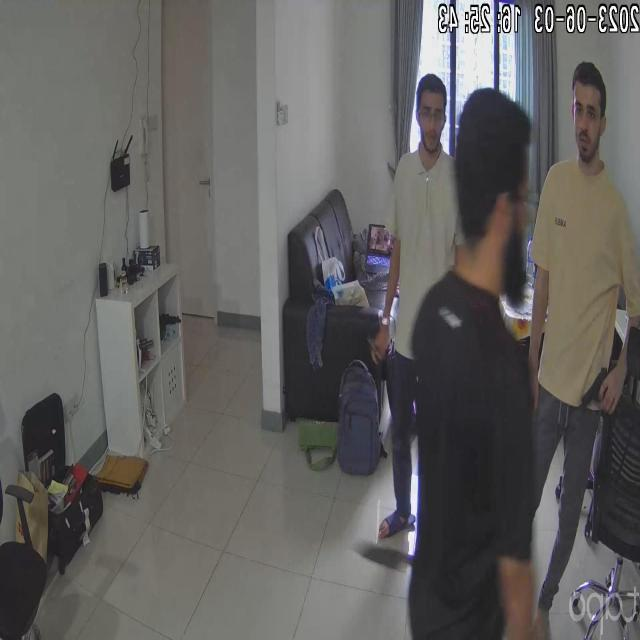Gun: (572, 360, 622, 423)
